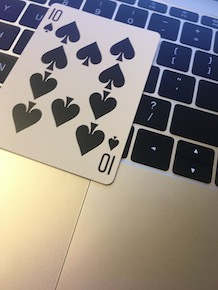TenOfSpades: (1, 2, 162, 187)
